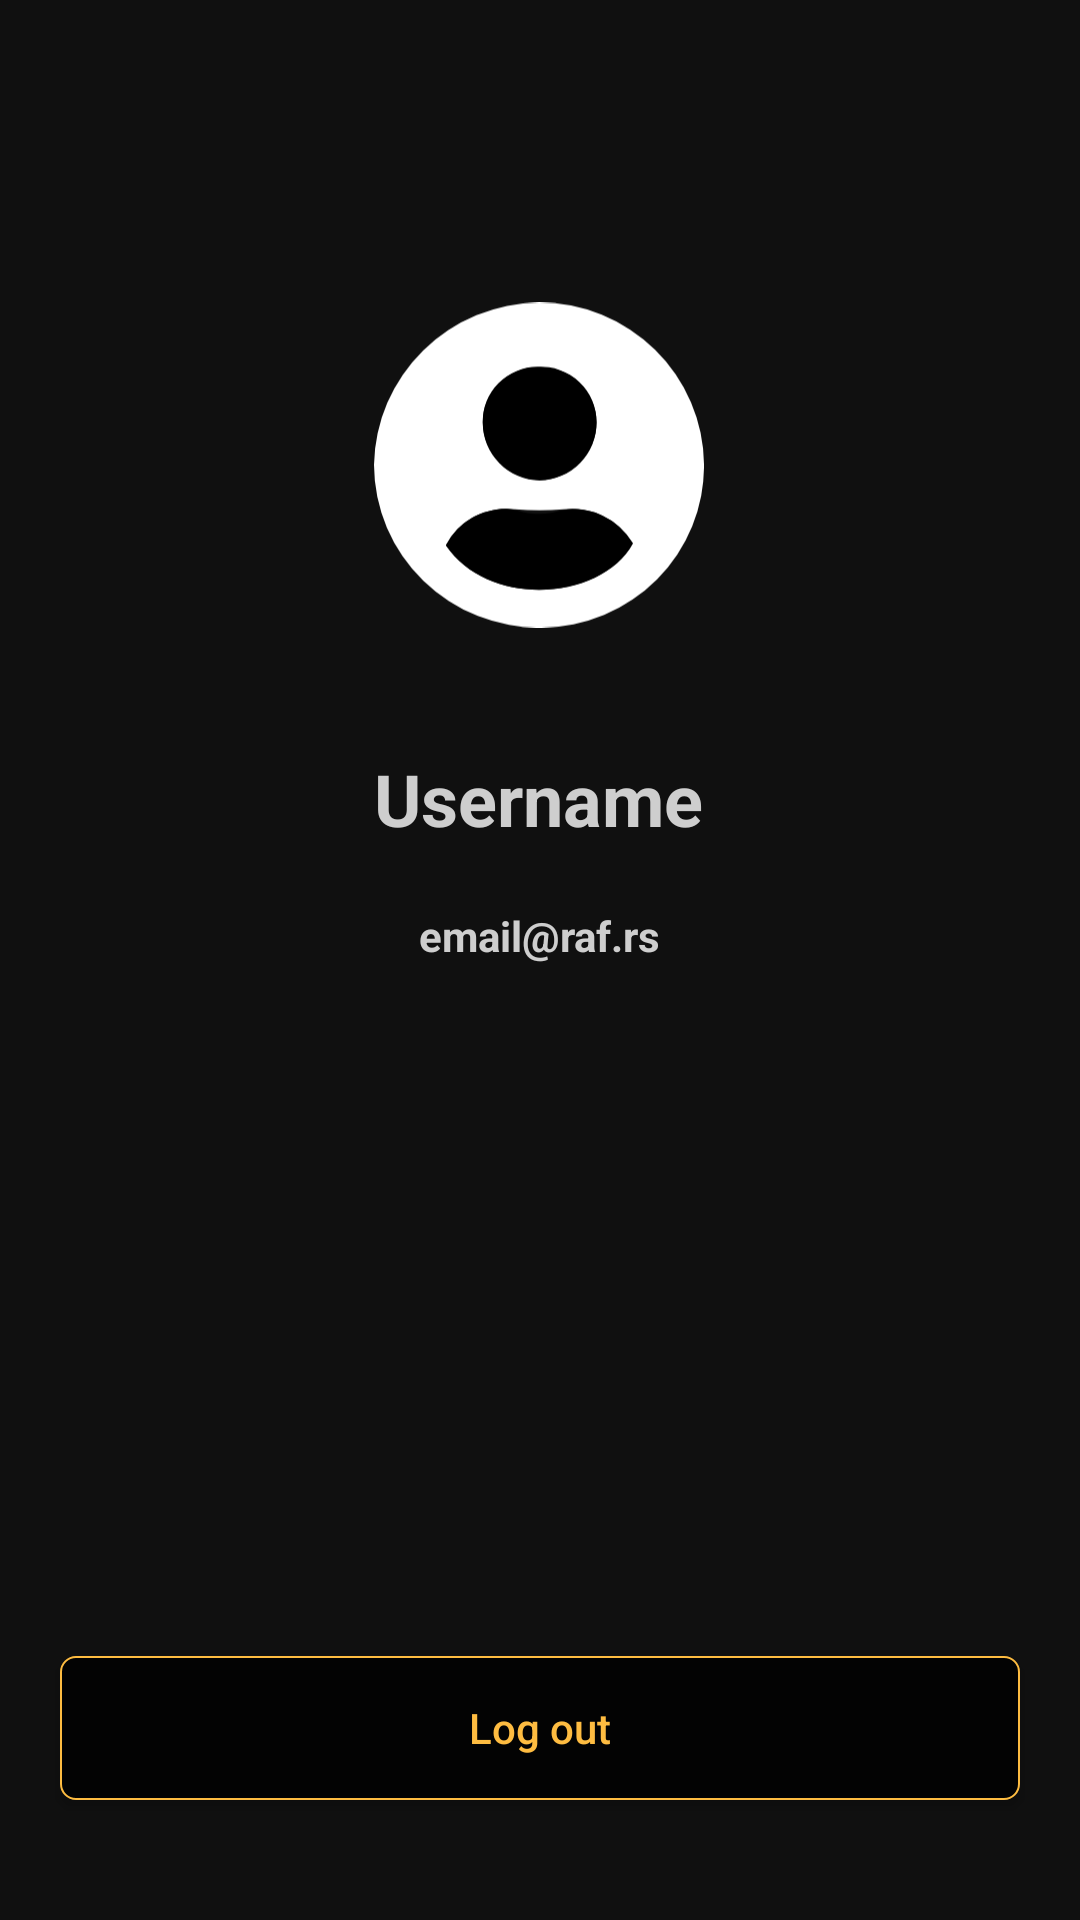

Icons on this 1080×1920 Android screen, each with the point to tap as point (x, y):
profile pic: point (539, 465)
